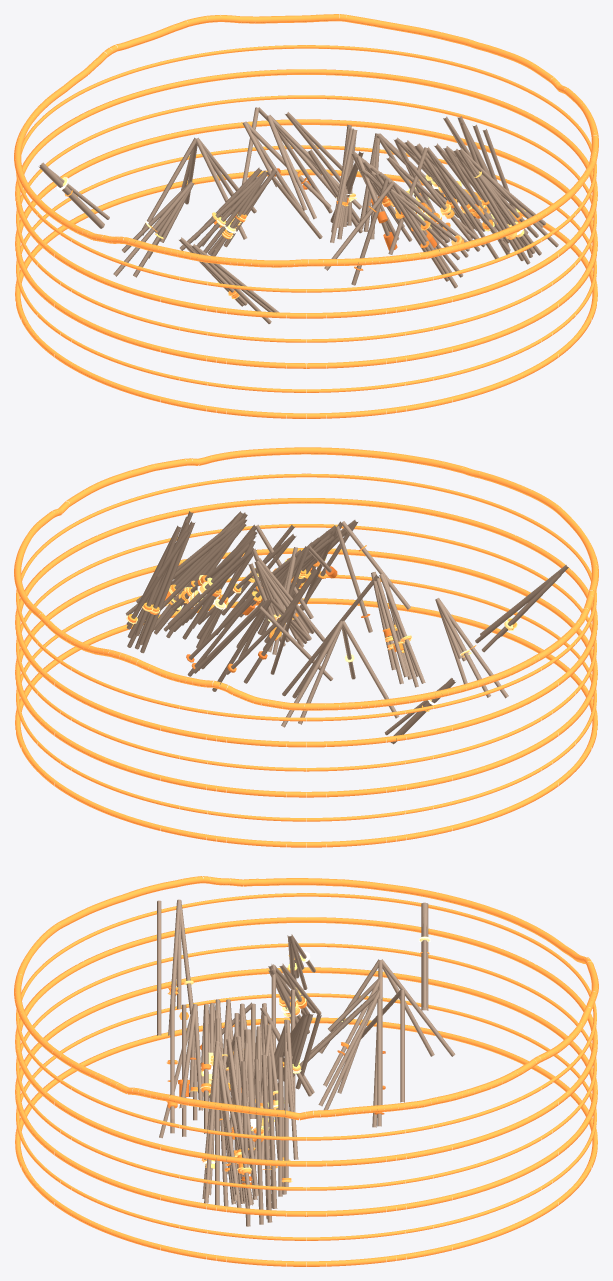
3 views of the same model, one above another, from view 1: azimuth 30°, elevation 25°; view 2: azimuth 150°, elevation 25°; view 3: azimuth 270°, elevation 25° (orthographic).
Parts seen in each view (by area): view 1: wall_100m, holes_tubes, wall_50m, wall_rim, s6se_tubes, h477_tubes; view 2: wall_100m, holes_tubes, wall_50m, wall_rim, s6se_tubes; view 3: wall_100m, holes_tubes, wall_50m, wall_rim, s6se_tubes, h377_tubes.
Part boxes in pixels (left/top/right/bottom): wall_100m: left=15, top=69, right=597, bottom=418; holes_tubes: left=39, top=107, right=532, bottom=323; wall_50m: left=16, top=45, right=596, bottom=392; wall_rim: left=14, top=14, right=598, bottom=267; s6se_tubes: left=376, top=116, right=558, bottom=264; h477_tubes: left=38, top=162, right=104, bottom=228; wall_100m: left=15, top=498, right=597, bottom=847; holes_tubes: left=127, top=511, right=568, bottom=735; wall_50m: left=16, top=473, right=596, bottom=821; wall_rim: left=14, top=447, right=598, bottom=710; s6se_tubes: left=125, top=511, right=296, bottom=648; wall_100m: left=15, top=917, right=597, bottom=1266; holes_tubes: left=157, top=899, right=455, bottom=1226; wall_50m: left=16, top=893, right=596, bottom=1240; wall_rim: left=14, top=876, right=598, bottom=1120; s6se_tubes: left=202, top=1013, right=288, bottom=1207; h377_tubes: left=244, top=1029, right=256, bottom=1164.
Bounding box in the file's own units: 0.6075 × 0.1898 × 0.6075.
